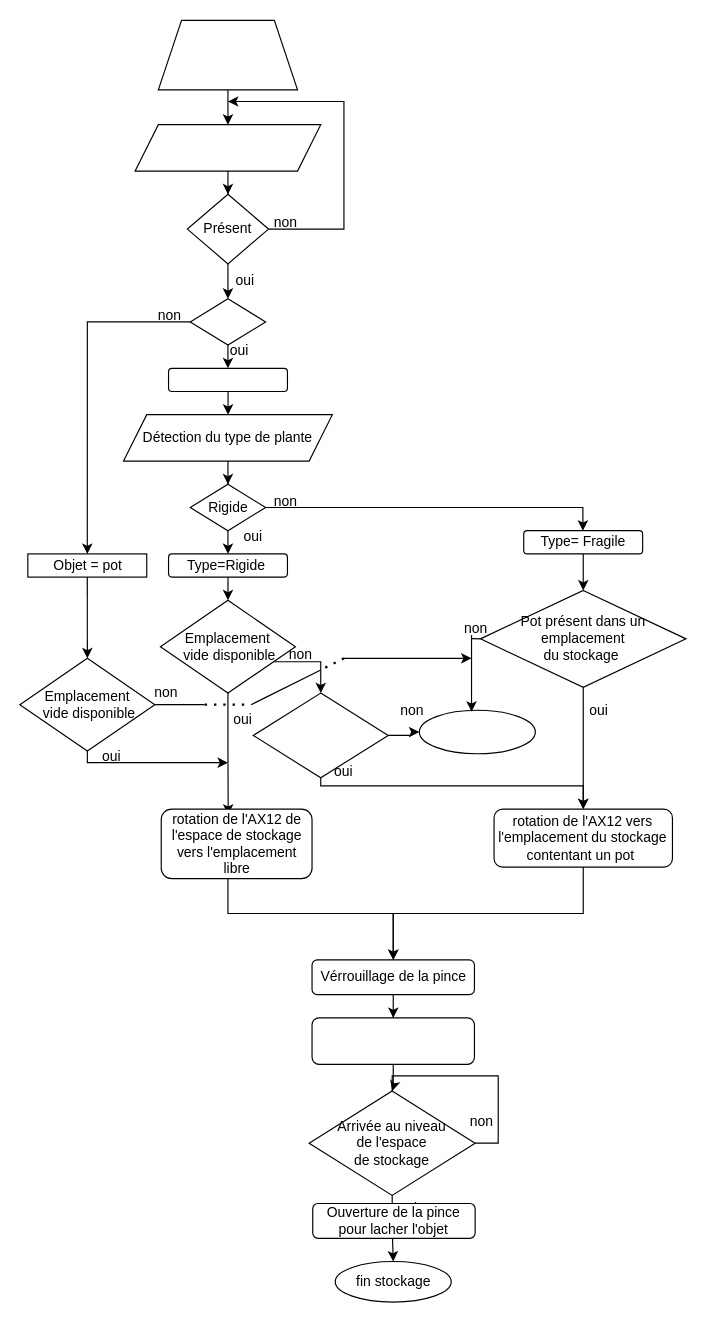
Some shapes in this 708 by 1322 pixel diagram are drawn without their labels. The shapes that lost their labels are listed below. From the top down, each one's box as (x1, y1, x2, y2) in pixels, then its label:
(157, 19, 298, 90): Ramassage des objets
(134, 124, 321, 171): Détection d'un objet
(189, 298, 266, 345): Plante
(167, 367, 287, 392): Objet = Plante
(252, 692, 388, 778): Emplacement contenant un pot
(418, 709, 535, 754): Ordre de partir
(311, 1017, 474, 1064): Montée de la pince avec l'objet grâce à l'ascenseur
